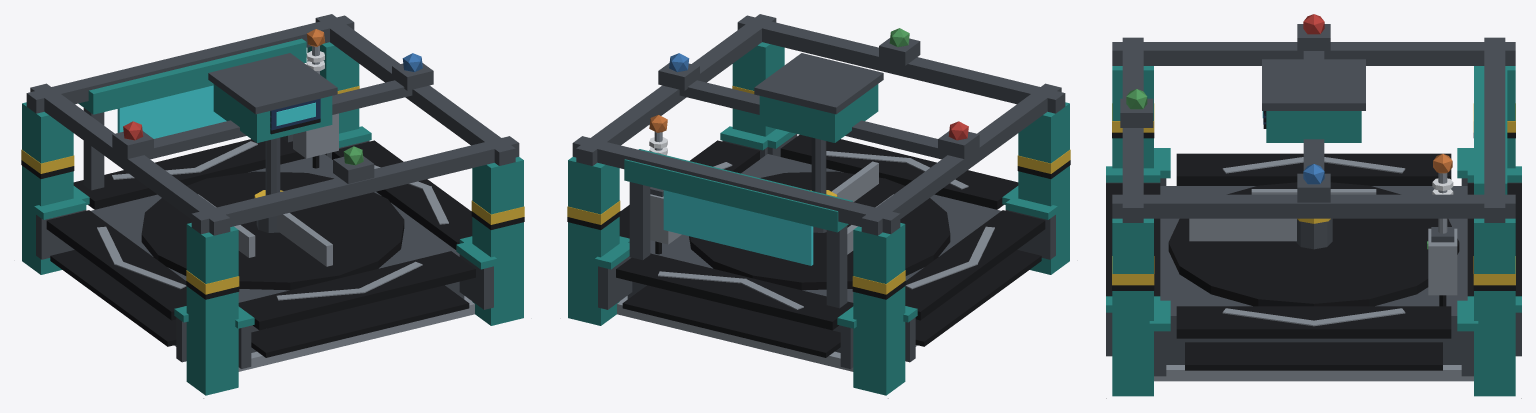
File: trieur.glb
The picture shows the model from 3 angles, left to right: view 1: azimuth 30°, elevation 25°; view 2: azimuth 150°, elevation 25°; view 3: azimuth 270°, elevation 25°; orthographic projection. The views are drawn at different scales.
Visible parts, largest first — view 1: pieces_acier_sombre.022, pieces_noir.030, pieces_trieur.002, plateau_fond.006, scanner_cyan.002, pieces_acier.054, bande_acier.048, aiguillage_acier.004, pieces_jaune.024, pieces_cyan.002, pieces_panneau.002; view 2: pieces_acier_sombre.022, pieces_trieur.002, pieces_noir.030, plateau_fond.006, scanner_cyan.002, pieces_acier.054, bande_acier.048, pieces_jaune.024, aiguillage_acier.004; view 3: pieces_acier_sombre.022, pieces_noir.030, pieces_trieur.002, plateau_fond.006, pieces_acier.054, aiguillage_acier.004, bande_acier.048, pieces_jaune.024, aiguillage_acier_sombre.004, pieces_vert.002, pieces_bleu.002, pieces_rouge.002.
Boxes of the visible parts, <box> form: pieces_acier_sombre.022: <box>26,14,519,368</box>; pieces_noir.030: <box>21,111,524,357</box>; pieces_trieur.002: <box>22,38,523,395</box>; plateau_fond.006: <box>141,171,404,290</box>; scanner_cyan.002: <box>117,85,226,138</box>; pieces_acier.054: <box>174,45,474,371</box>; bande_acier.048: <box>97,141,448,300</box>; aiguillage_acier.004: <box>198,194,332,266</box>; pieces_jaune.024: <box>21,86,524,294</box>; pieces_cyan.002: <box>276,102,315,125</box>; pieces_panneau.002: <box>270,98,320,130</box>; pieces_acier_sombre.022: <box>572,14,1065,368</box>; pieces_trieur.002: <box>568,42,1069,395</box>; pieces_noir.030: <box>567,134,1070,357</box>; plateau_fond.006: <box>689,171,950,290</box>; scanner_cyan.002: <box>663,190,813,265</box>; pieces_acier.054: <box>617,132,917,371</box>; bande_acier.048: <box>658,151,994,309</box>; pieces_jaune.024: <box>567,86,1070,294</box>; aiguillage_acier.004: <box>831,161,893,254</box>; pieces_acier_sombre.022: <box>1106,24,1521,376</box>; pieces_noir.030: <box>1106,111,1521,370</box>; pieces_trieur.002: <box>1106,66,1521,396</box>; plateau_fond.006: <box>1168,182,1459,306</box>; pieces_acier.054: <box>1154,173,1473,381</box>; aiguillage_acier.004: <box>1189,189,1376,241</box>; bande_acier.048: <box>1222,157,1405,326</box>; pieces_jaune.024: <box>1112,103,1515,285</box>; aiguillage_acier_sombre.004: <box>1295,218,1332,249</box>; pieces_vert.002: <box>1126,89,1428,249</box>; pieces_bleu.002: <box>1303,164,1324,184</box>; pieces_rouge.002: <box>1303,14,1324,34</box>.
Bounding box in the file's own units: 1 × 0.61 × 1.
